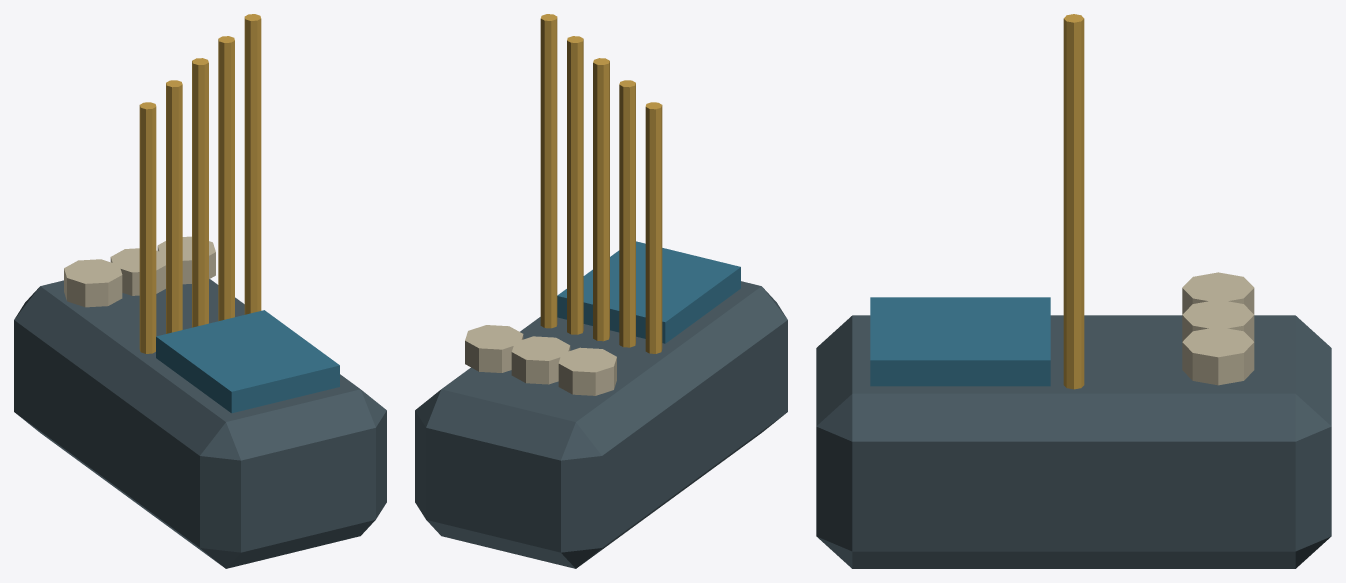
File: set_pen_cup.glb
3 renders of one model, left to right at view 1: azimuth 30°, elevation 25°; view 2: azimuth 150°, elevation 25°; view 3: azimuth 270°, elevation 25°, orthographic. The views are drawn at different scales.
Parts seen in each view (by area): view 1: set_pen_cup; view 2: set_pen_cup; view 3: set_pen_cup.
Part boxes in pixels (x1,y1,x2,y2): set_pen_cup: [14, 14, 386, 568]; set_pen_cup: [415, 14, 787, 568]; set_pen_cup: [816, 14, 1331, 568].
Size of the model in its own units: 0.1 by 0.232 by 0.2.
